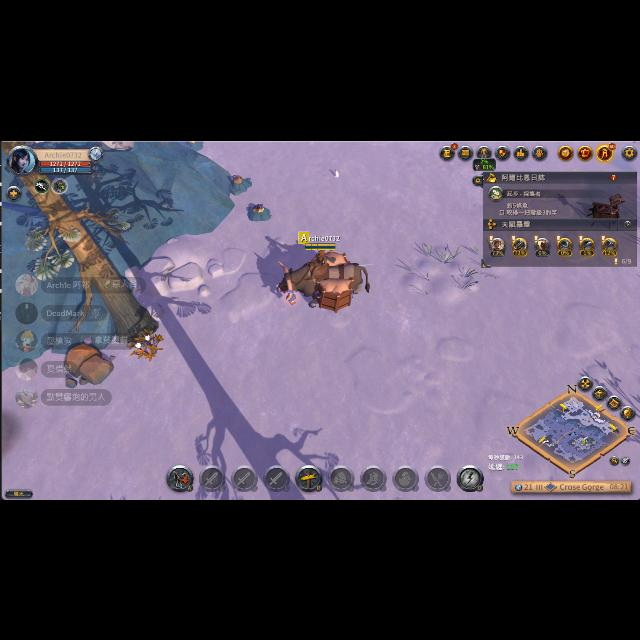mine_ii: (228, 166, 254, 194), (247, 200, 273, 224)
